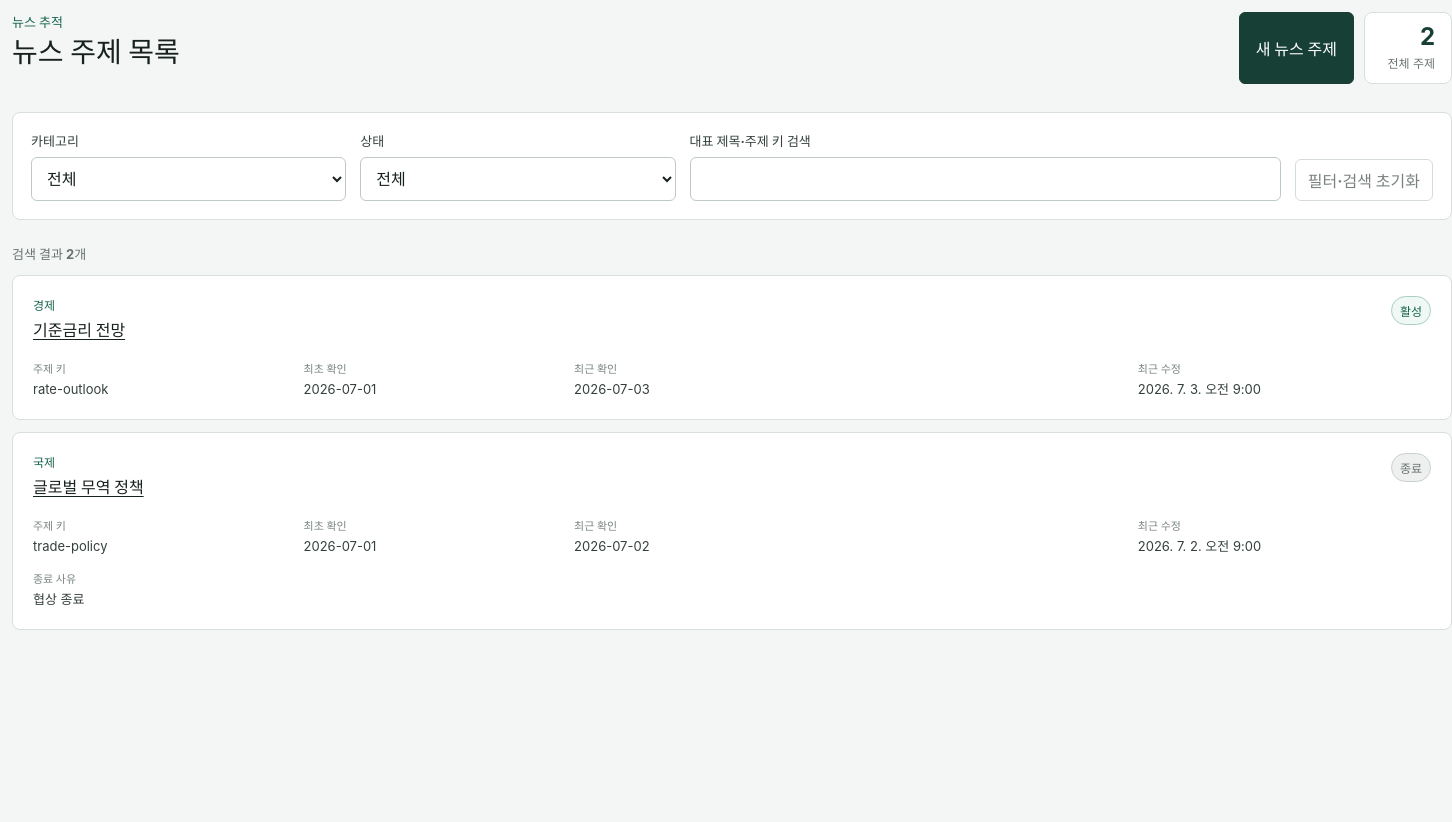
Test case: NewsTopicsPage › resets all filters and search
expect the link "기준금리 전망" is shown: met, box [33,320,125,340]
Select "국제" in the dropdown labelled "카테고리". click: coordinates (189, 179)
box: [31,157,346,201]
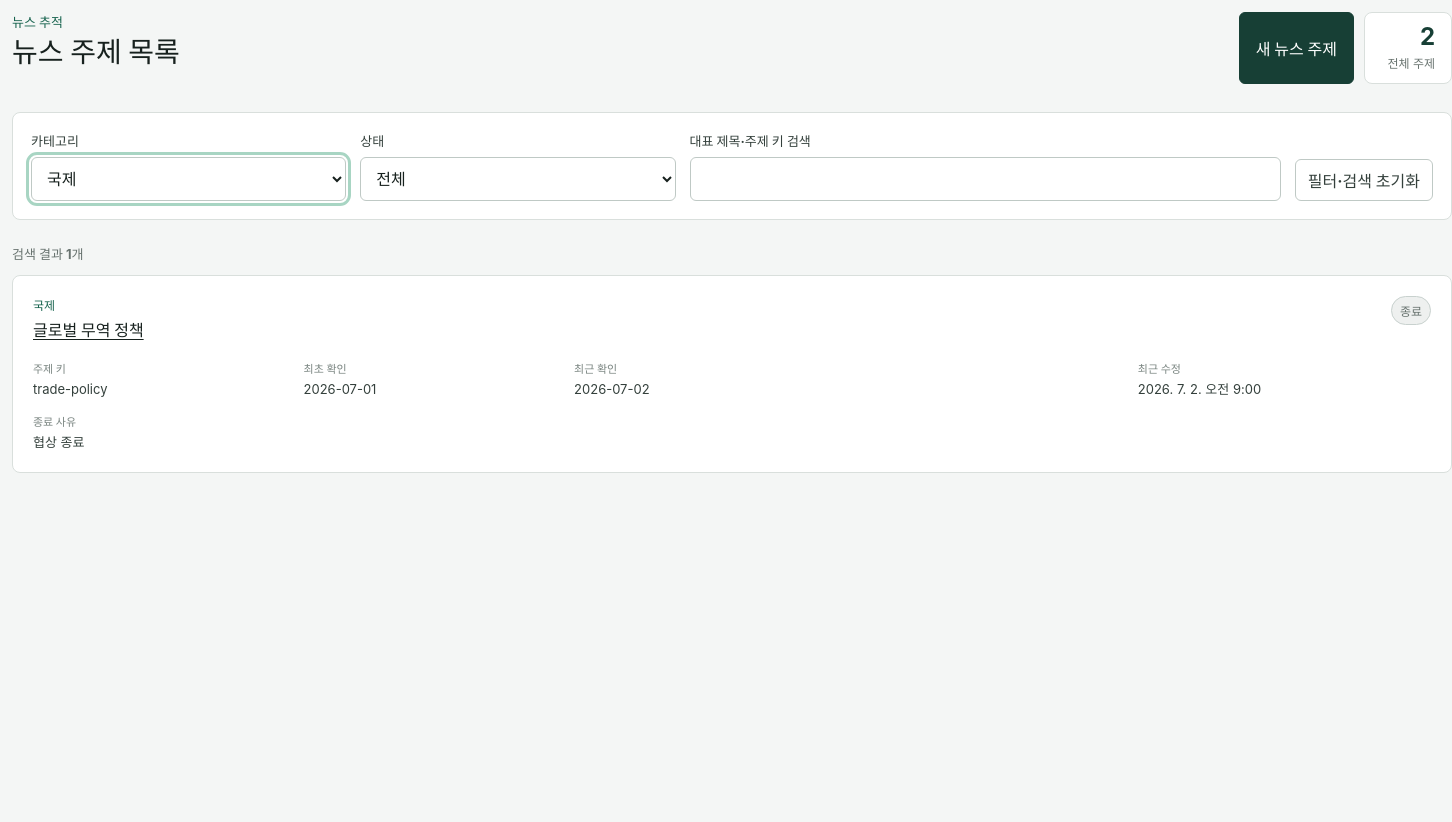
Type "trade" into the search field labelled "대표 제목·주제 키 검색". click: coordinates (985, 179)
box: [690,157,1281,201]
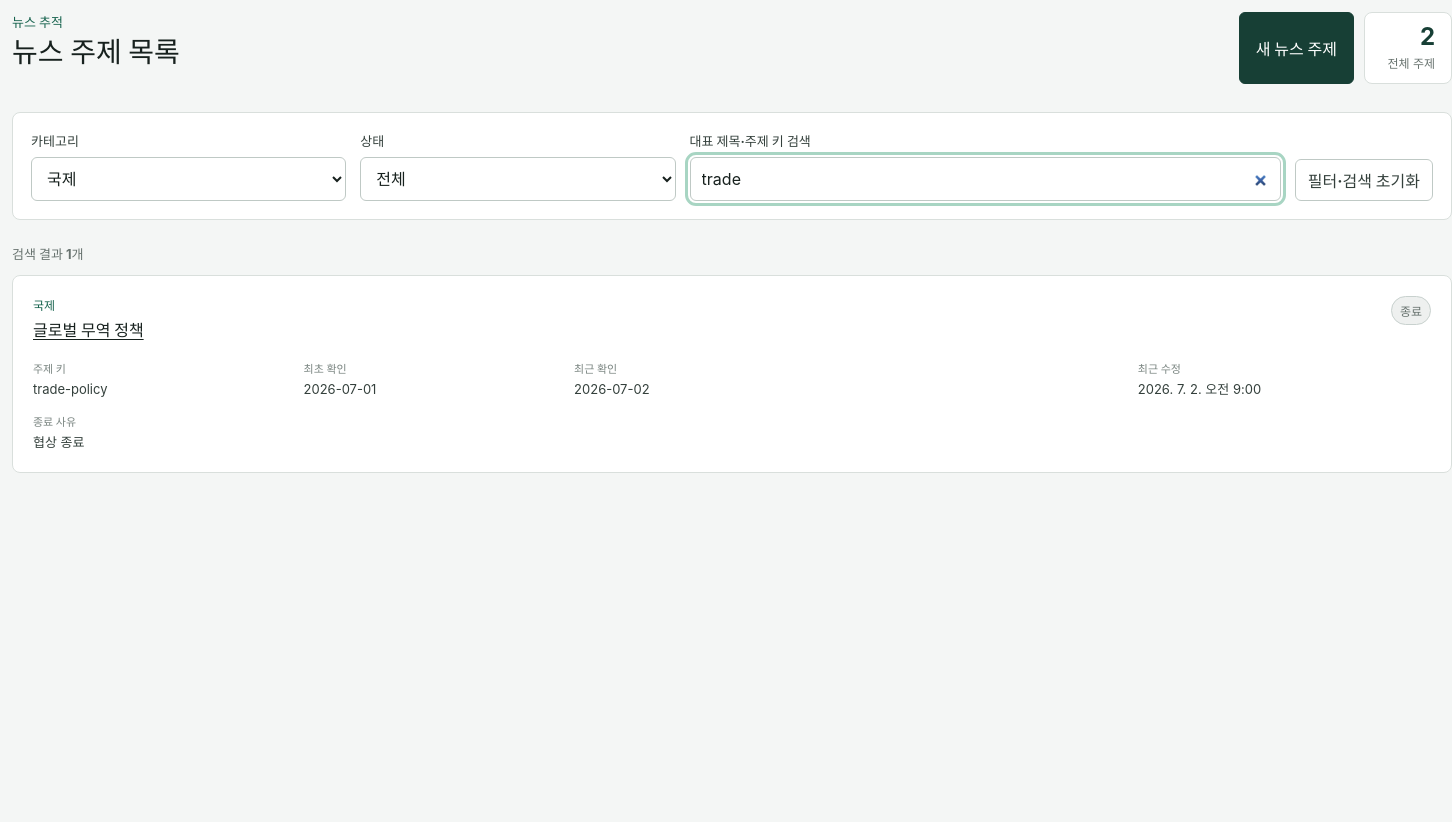
Click the button "필터·검색 초기화". click: coordinates (1364, 180)
box: [1295,159,1433,201]
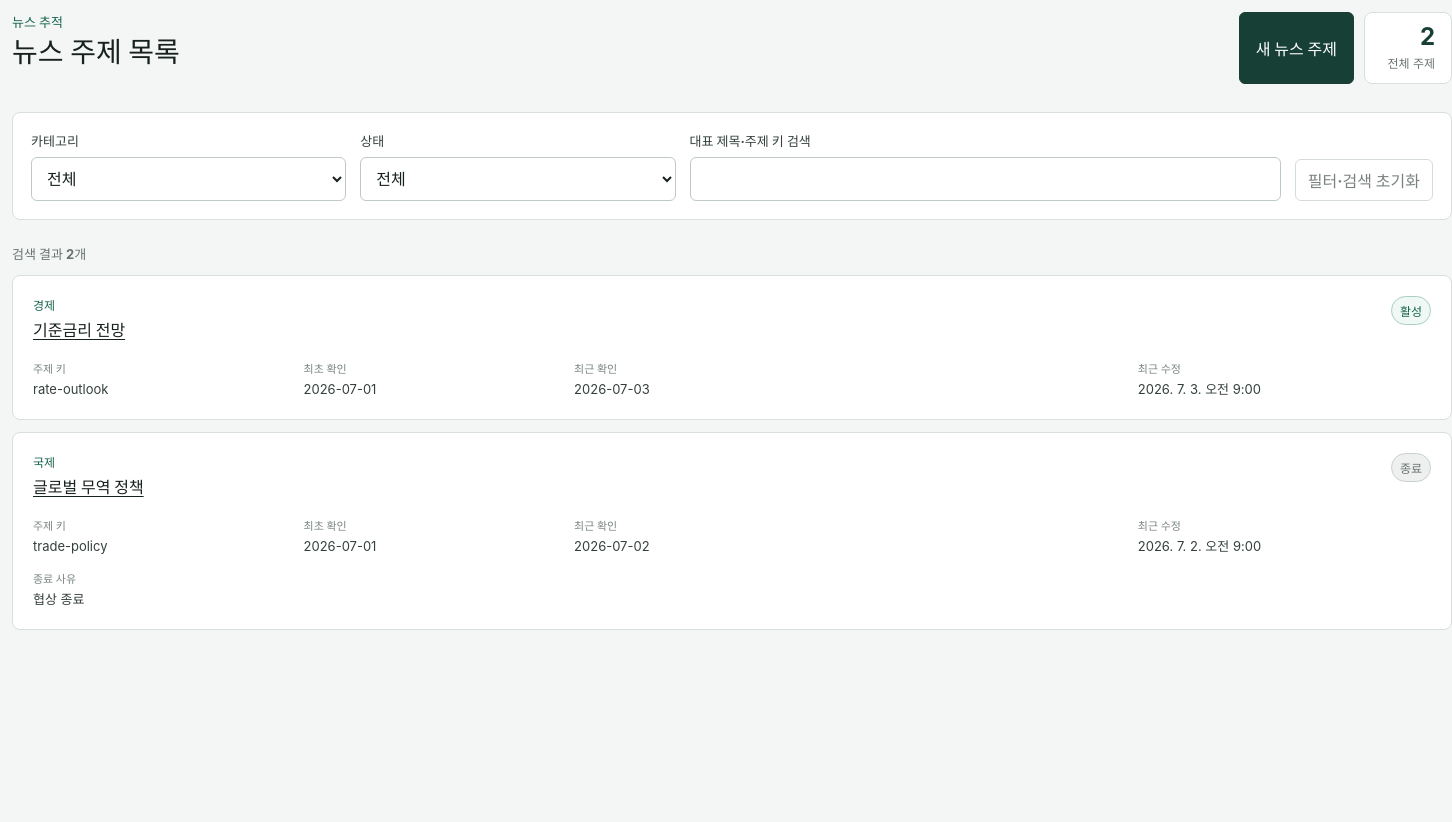
expect the link "기준금리 전망" is shown: met, box [33,320,125,340]
